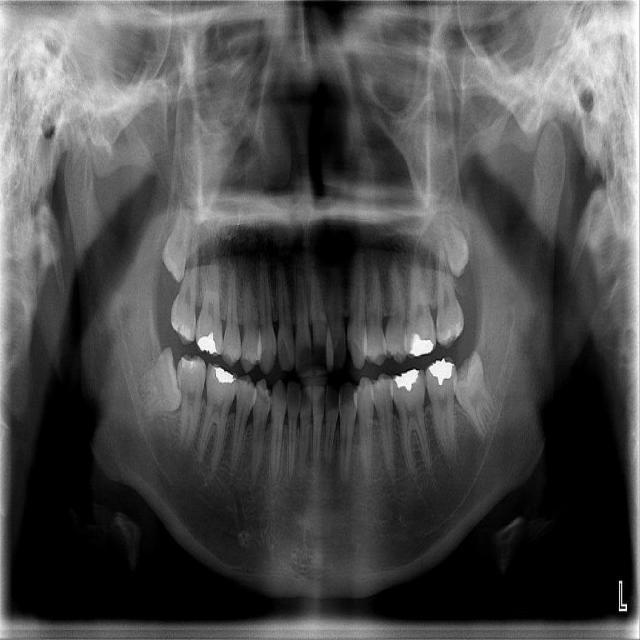3M ESPE Implant: (160, 206, 191, 282)
52: (200, 361, 242, 415), (419, 355, 463, 403), (192, 301, 225, 357), (402, 310, 436, 359), (174, 353, 209, 397), (390, 369, 426, 411), (435, 301, 465, 348)
73: (602, 595, 610, 604)
BioHorizons Implant: (435, 244, 466, 349)
BioLife Implant: (438, 211, 474, 279)
Biomet 3i Implant: (445, 350, 503, 442)
Blue Sky Bio Implant: (426, 357, 458, 454)
Caries: (170, 251, 198, 345)
Implant: (169, 353, 208, 459)
Keystone Dental Implant: (128, 345, 185, 418)
